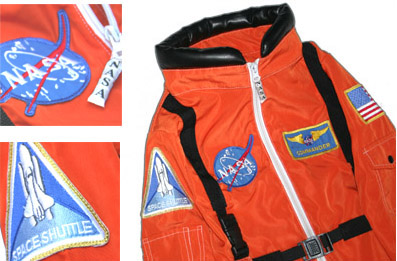NASA: (1, 8, 91, 116), (212, 131, 261, 191)
